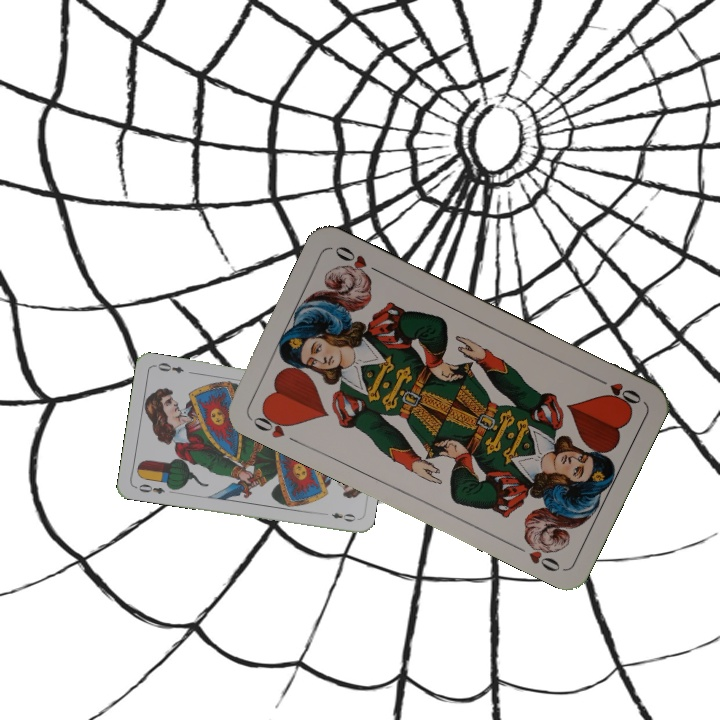EO: (131, 480, 167, 497)
HO: (589, 373, 644, 408), (247, 405, 298, 441)
